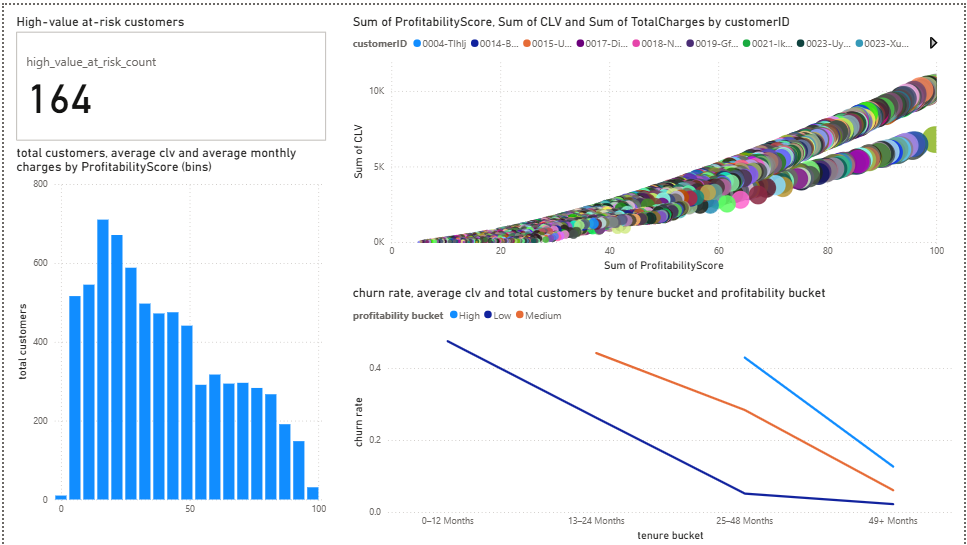

What the dashboard file says about the page in this screenshot:
{"tool":"powerbi","page":{"name":"Page 3","canvas":[1280,720],"ordinal":2},"visuals":[{"type":"clusteredColumnChart","fields":{"Category":["telecomcpa fact_profitability.ProfitabilityScore (bins)"],"Y":["telecomcpa dim_customer.total customers"]},"box":[11.7,186.7,423.3,516.7],"z":0},{"type":"cardVisual","title":"High-value at-risk customers","fields":{"Data":["telecomcpa dim_customer.high_value_at_risk_count"]},"box":[11.7,11.7,423.3,175],"z":1000},{"type":"scatterChart","fields":{"X":["telecomcpa fact_profitability.ProfitabilityScore"],"Y":["telecomcpa fact_profitability.CLV"],"Series":["telecomcpa dim_customer.customerID"],"Size":["telecomcpa fact_profitability.TotalCharges"]},"box":[460,11.7,798.3,348.3],"z":2000},{"type":"lineChart","fields":{"Category":["telecomcpa fact_profitability.tenure bucket"],"Series":["telecomcpa fact_profitability.profitability bucket"],"Y":["telecomcpa dim_customer.churn rate"]},"box":[460,373.3,810,346.7],"z":3000}]}

Visuals, with their boxes in screenshot pixels (x1, y1, x2, y2), scaled from the page's 1280x720 canvas onto the 967x545 screenshot:
clusteredColumnChart - telecomcpa fact_profitability.ProfitabilityScore (bins) x telecomcpa dim_customer.total customers: 9/141/329/532
"High-value at-risk customers" cardVisual: 9/9/329/141
scatterChart - telecomcpa fact_profitability.ProfitabilityScore x telecomcpa fact_profitability.CLV: 348/9/951/272
lineChart - telecomcpa fact_profitability.tenure bucket x telecomcpa fact_profitability.profitability bucket: 348/283/959/544
